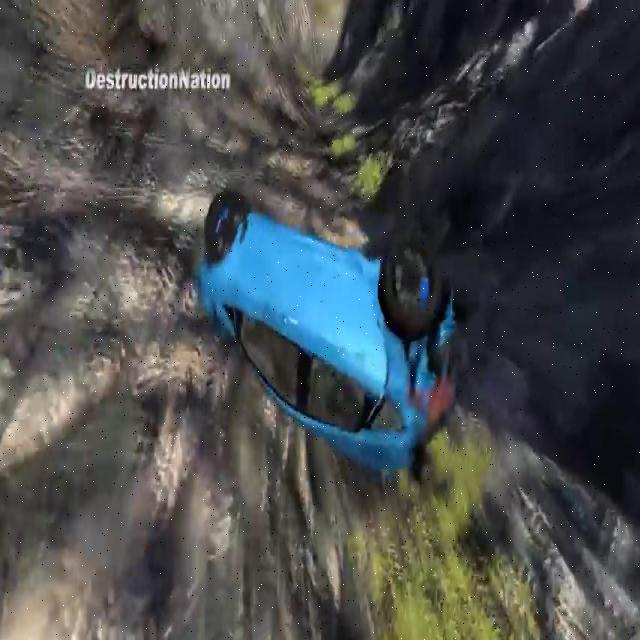severe: (187, 178, 466, 490)
